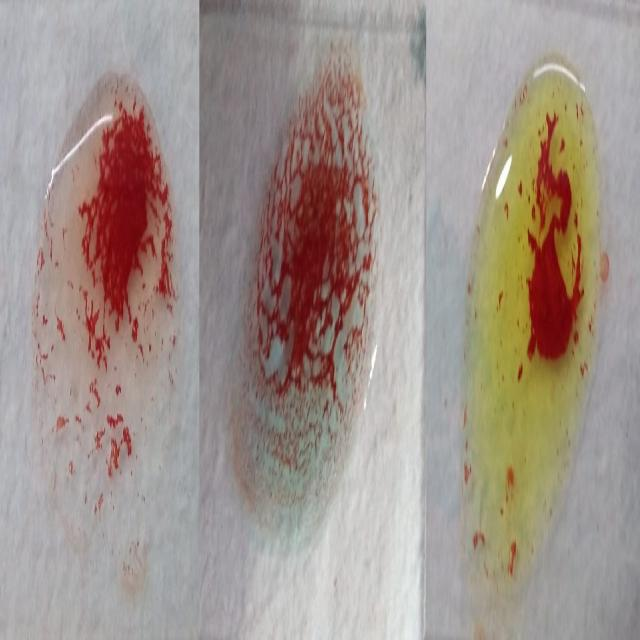A: (235, 51, 374, 523)
B: (457, 70, 604, 578)
D: (46, 78, 176, 523)
